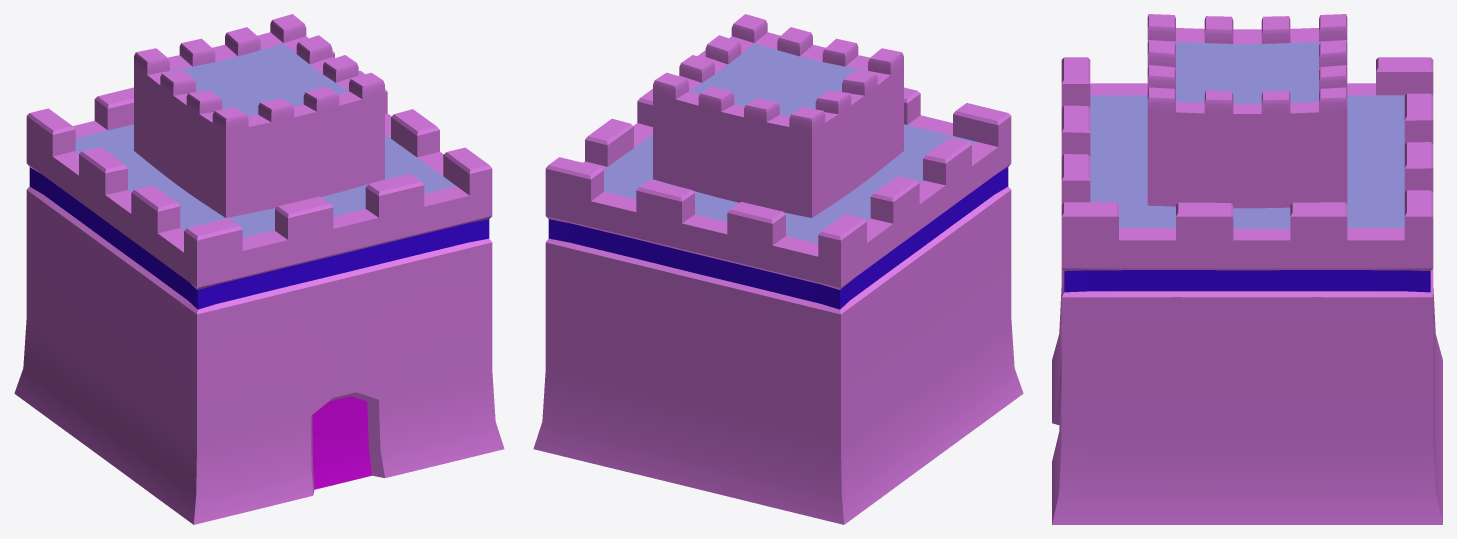
File: square2.fbx
3 renders of one model, left to right at view 1: azimuth 30°, elevation 25°; view 2: azimuth 150°, elevation 25°; view 3: azimuth 270°, elevation 25°, orthographic. The views are drawn at different scales.
Visible parts, largest first — view 1: pCube8; view 2: pCube8; view 3: pCube8.
Part boxes in pixels (box(x1,y1,x2,y2)): pCube8: box(14, 14, 504, 524); pCube8: box(533, 14, 1023, 524); pCube8: box(1052, 14, 1442, 524).
Bounding box in the file's own units: 1270 × 1387 × 1270.
